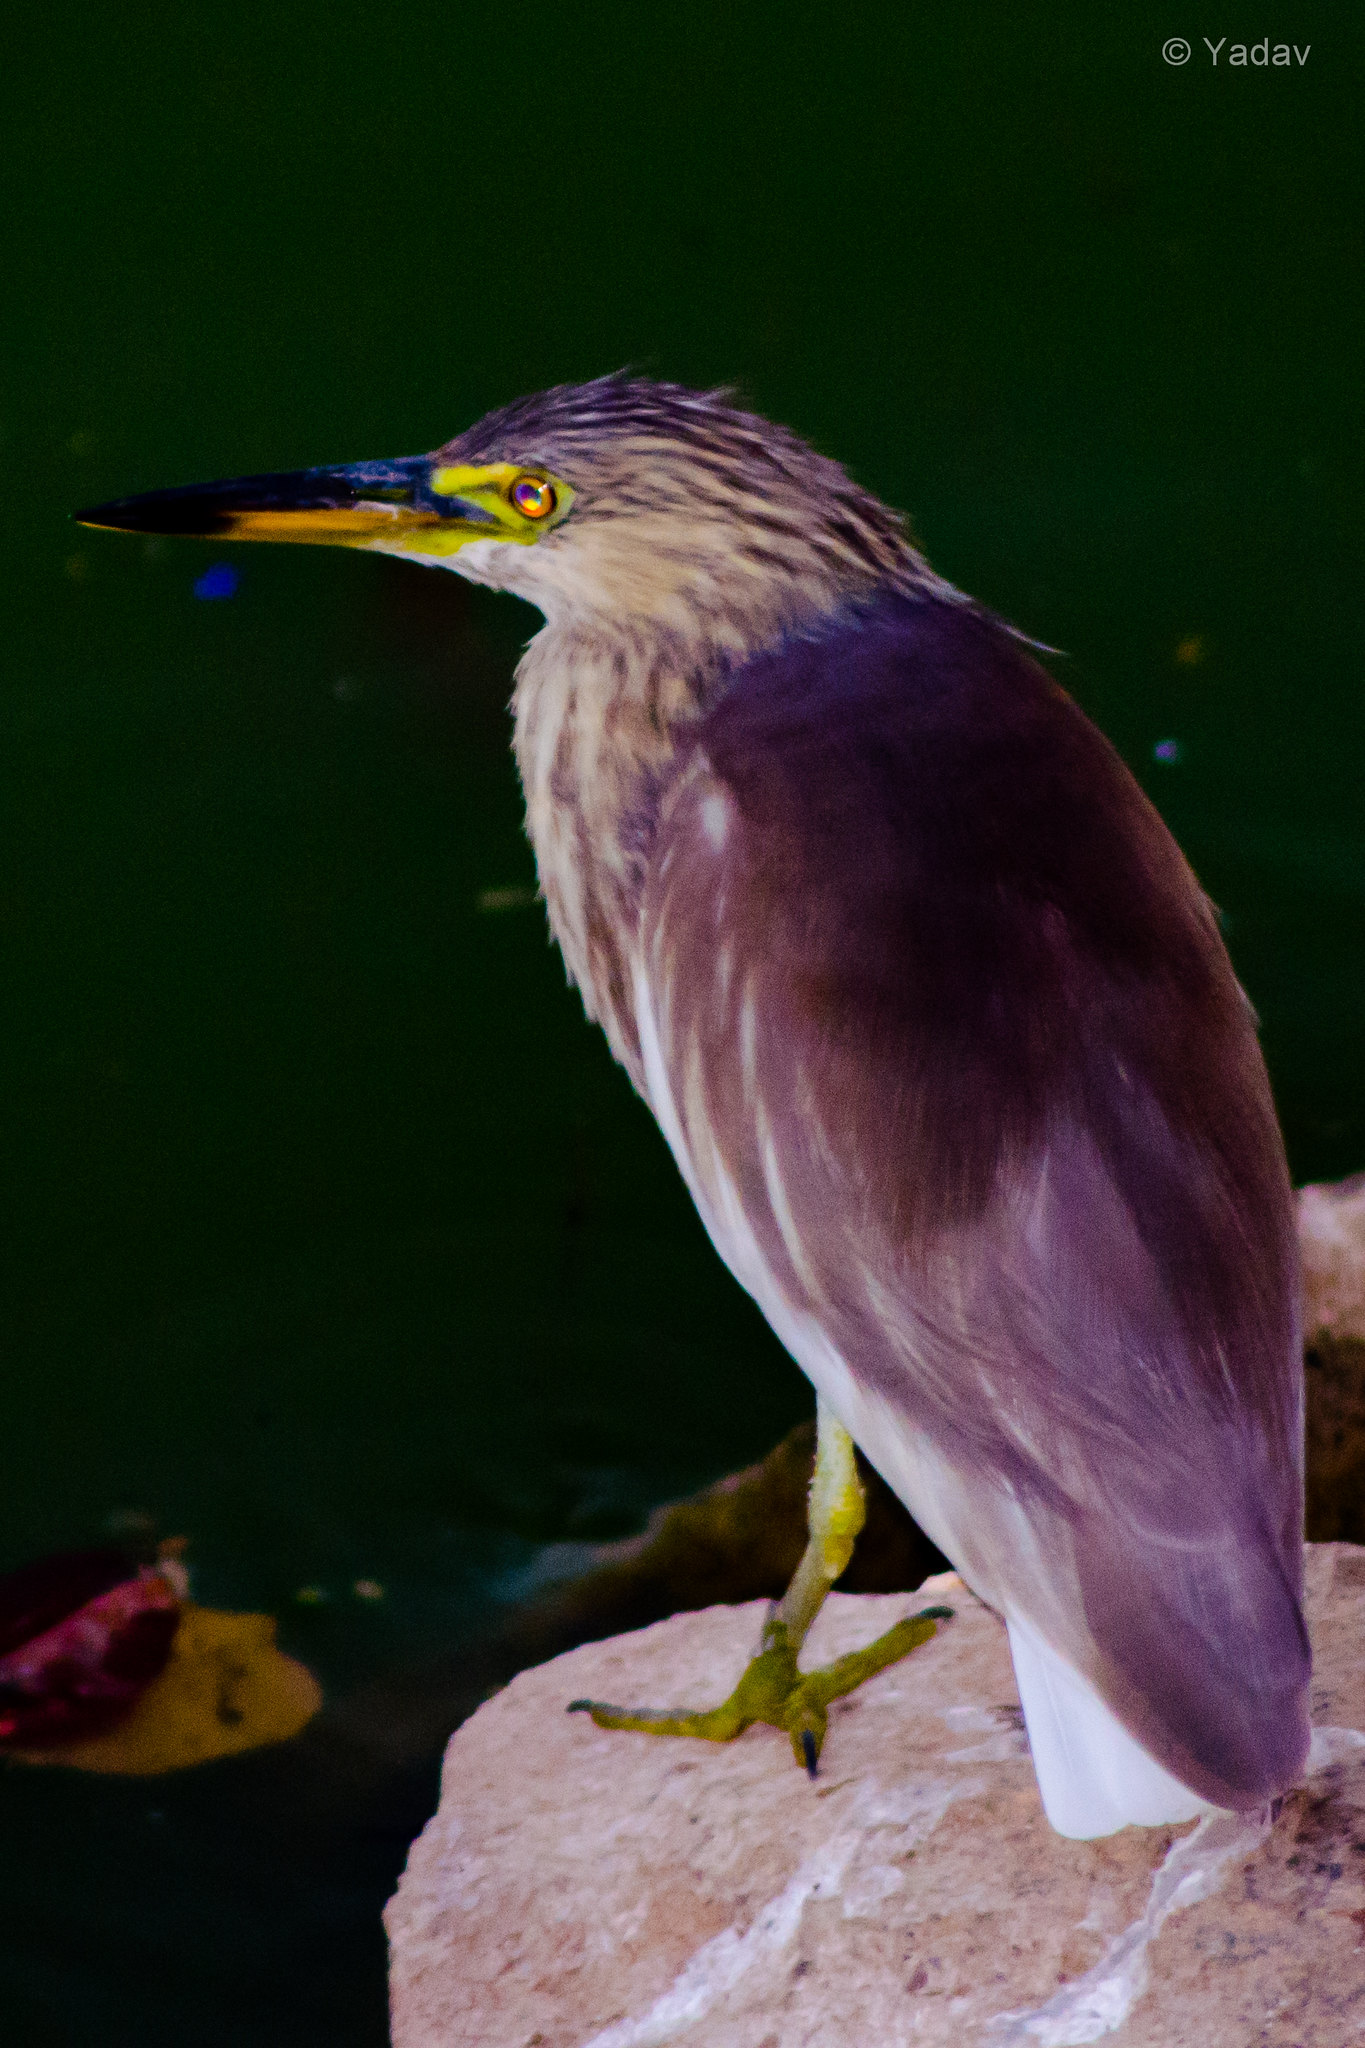bird: (61, 341, 1348, 1815)
